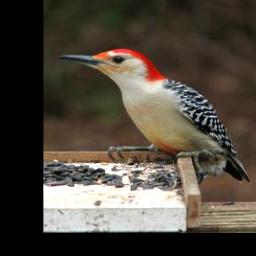Woodpecker: (57, 48, 253, 185)
